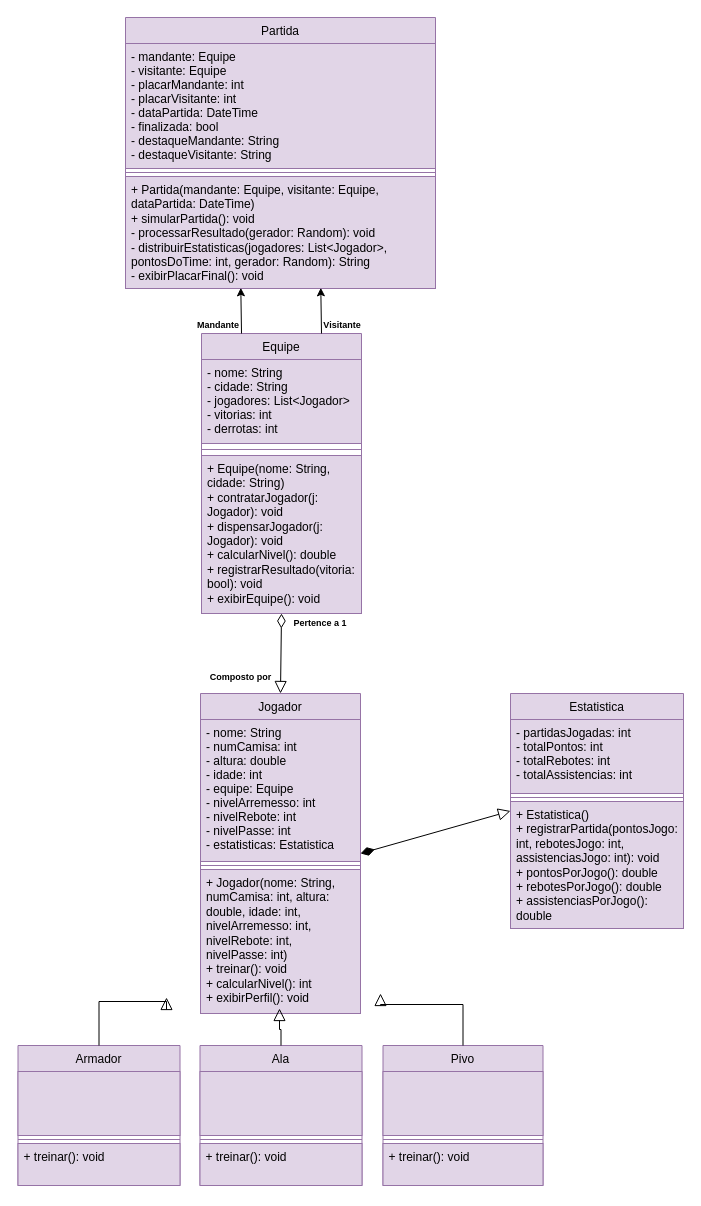
Some shapes in this 701 by 1206 pixel diagram are drawn without their labels. Here are the shapes that lost their labels. From the top down, the box of each, then its label:
(17, 1070, 180, 1136): - controleDeBola: int - especialistaPerimetro: bool
(199, 1070, 362, 1136): - explosaoFisica: int - especialistaInfiltracao: bool
(382, 1070, 543, 1136): - protetorDeAro: bool - especialistaRebotes: bool
